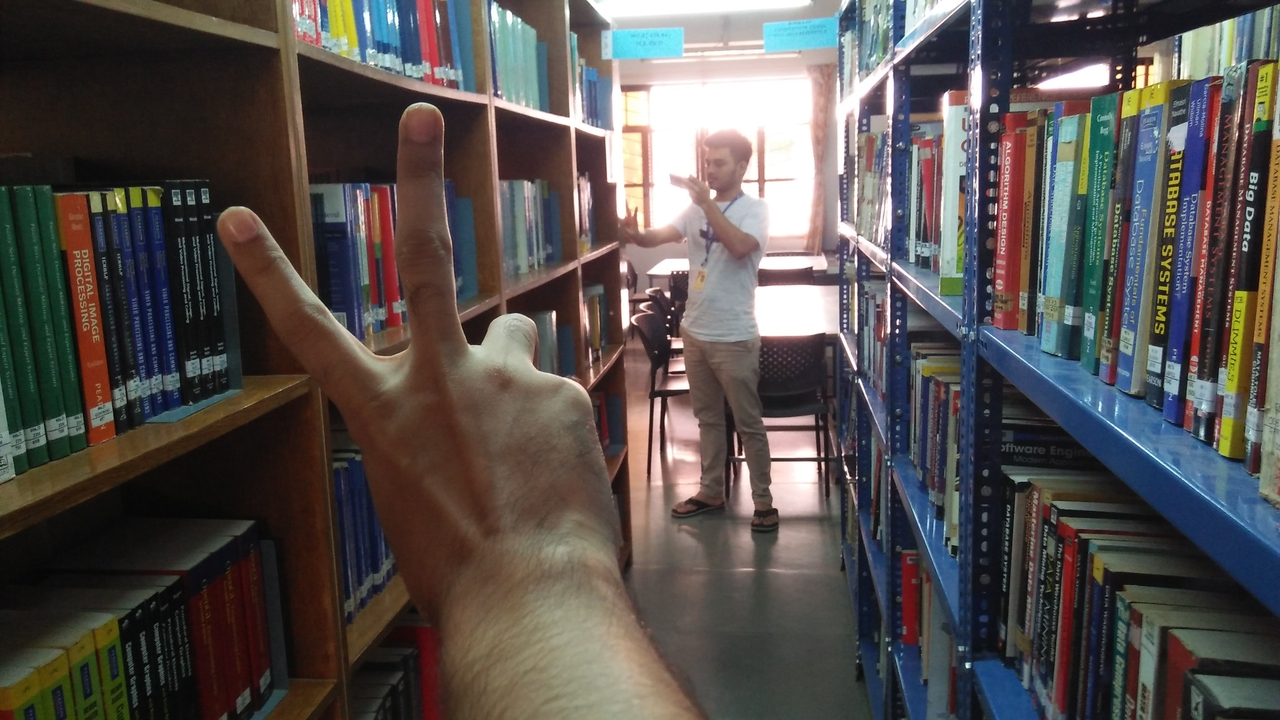fingertip: (202, 200, 266, 254), (390, 96, 444, 150)
